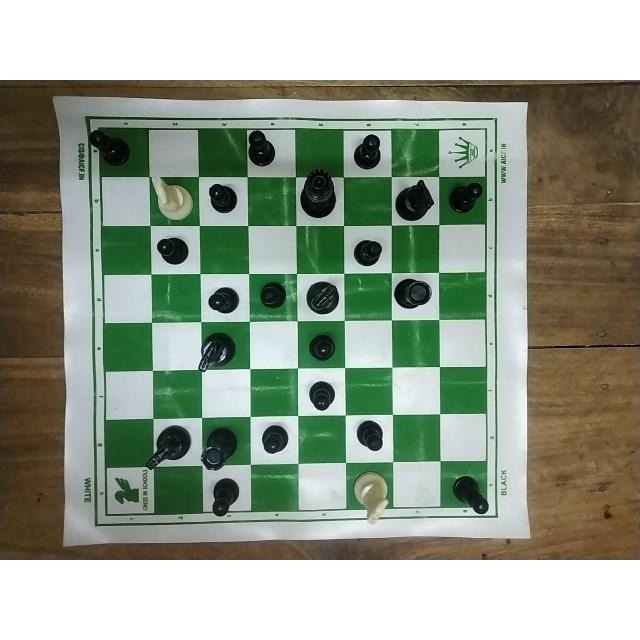black-knight: (138, 422, 194, 477), (393, 176, 437, 224), (193, 331, 237, 377), (300, 277, 344, 317)
black-pawn: (87, 127, 136, 171), (452, 471, 490, 516), (210, 474, 246, 520), (352, 130, 386, 172), (303, 377, 341, 412), (248, 131, 280, 171), (207, 181, 243, 215), (451, 179, 483, 215), (154, 234, 189, 266), (205, 281, 241, 312), (355, 418, 385, 452), (261, 423, 290, 456), (260, 276, 288, 310), (311, 332, 339, 364), (352, 238, 380, 267)
black-queen: (300, 168, 340, 221)
black-rook: (201, 421, 244, 471), (393, 273, 433, 313)
white-knight: (350, 469, 396, 527), (149, 172, 201, 220)
